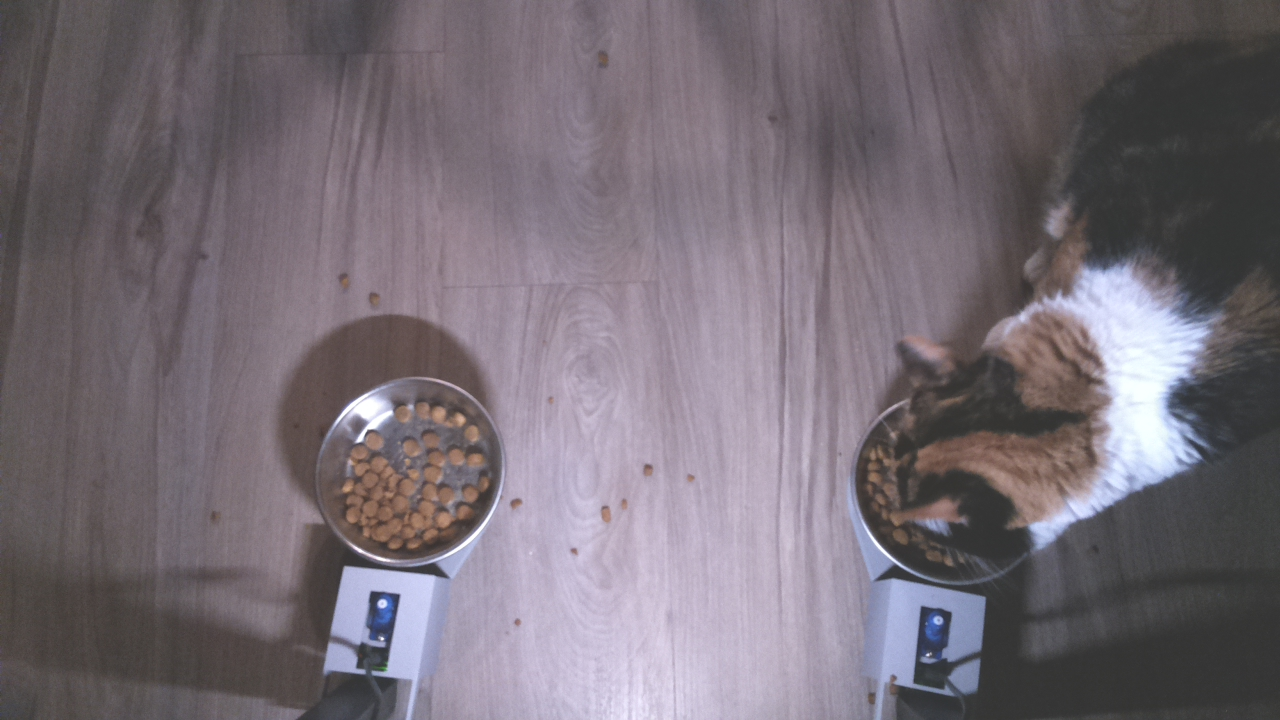bella_eating: (858, 307, 1116, 582)
open_bowl: (311, 370, 512, 572)
